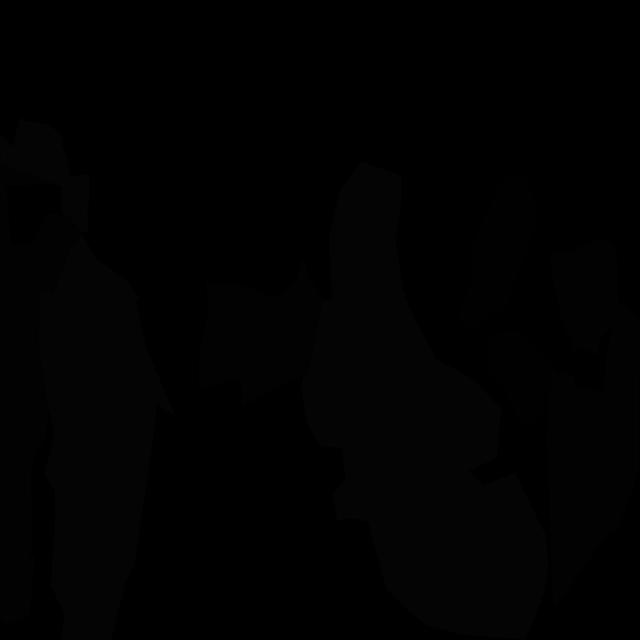cardboard: (0, 213, 82, 625), (546, 303, 640, 611), (199, 257, 322, 406), (550, 239, 618, 356), (0, 163, 56, 244)
rigid_plastic: (457, 176, 539, 333), (487, 329, 557, 431)
soft_plastic: (302, 161, 548, 640), (38, 234, 175, 640), (0, 117, 90, 234)
